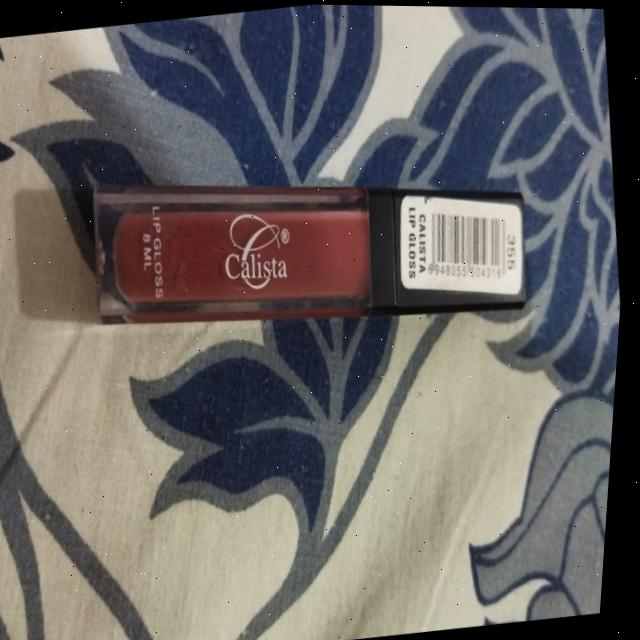lip gloss: (57, 95, 561, 387)
